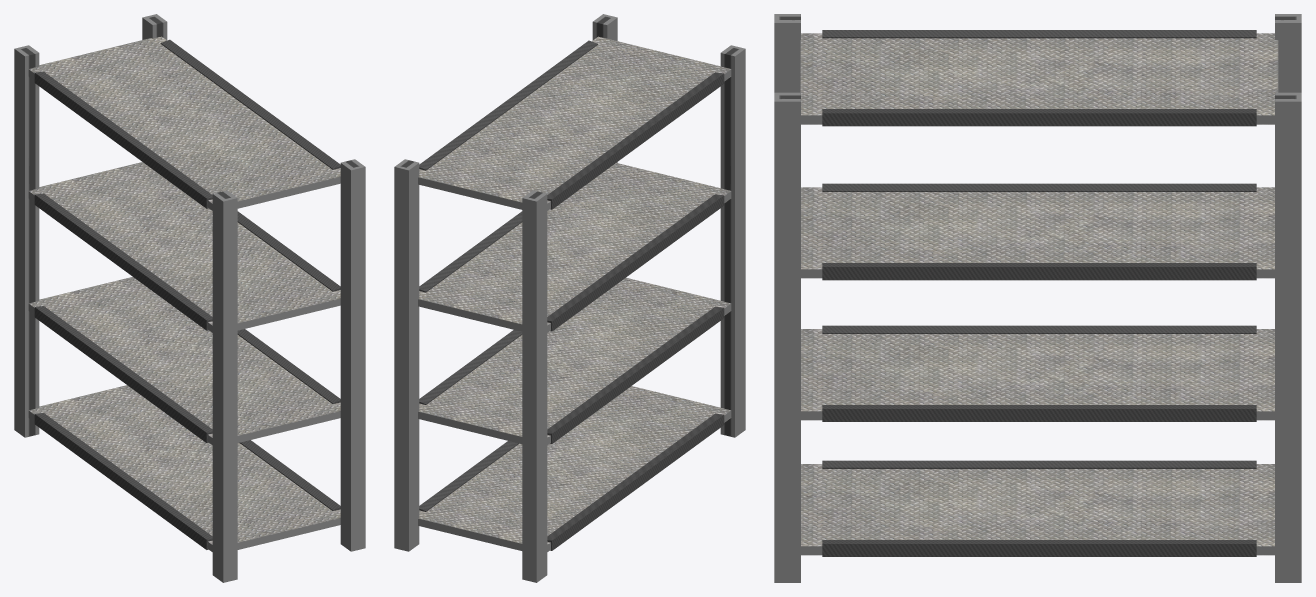
Rendered from Shelf.fbx.
The picture shows the model from 3 angles, left to right: view 1: azimuth 30°, elevation 25°; view 2: azimuth 150°, elevation 25°; view 3: azimuth 270°, elevation 25°; orthographic projection. The views are drawn at different scales.
Visible parts, largest first — view 1: Plate_4, Plate_3, Plate_2, Plate_1, ADDPlate_B (×4), shelf_LBLeg, shelf_LFLeg1, shelf_RBLeg, ADDPlate_F (×4), shelf_RFLeg; view 2: Plate_4, Plate_3, Plate_2, Plate_1, ADDPlate_B (×4), shelf_RBLeg, shelf_RFLeg, shelf_LBLeg, ADDPlate_F (×4), shelf_LFLeg1; view 3: Plate_4, Plate_3, Plate_2, Plate_1, ADDPlate_F (×4), ADDPlate_B (×4), shelf_RFLeg, shelf_LFLeg1, shelf_LBLeg, shelf_RBLeg.
Boxes of the visible parts, box(x1,y1,x2,y2) form: Plate_4: box(28, 36, 340, 210); Plate_3: box(28, 162, 340, 332); Plate_2: box(28, 277, 340, 445); Plate_1: box(28, 385, 340, 551); ADDPlate_B (×4): box(34, 71, 212, 549); shelf_LBLeg: box(212, 190, 237, 582); shelf_LFLeg1: box(340, 159, 365, 551); shelf_RBLeg: box(14, 45, 39, 437); ADDPlate_F (×4): box(160, 39, 340, 510); shelf_RFLeg: box(142, 14, 167, 40); Plate_4: box(418, 36, 731, 210); Plate_3: box(418, 163, 731, 332); Plate_2: box(418, 277, 731, 445); Plate_1: box(418, 386, 731, 551); ADDPlate_B (×4): box(547, 72, 724, 550); shelf_RBLeg: box(522, 190, 547, 582); shelf_RFLeg: box(394, 159, 419, 551); shelf_LBLeg: box(720, 45, 745, 437); ADDPlate_F (×4): box(419, 40, 597, 511); shelf_LFLeg1: box(592, 14, 617, 162); Plate_4: box(800, 33, 1278, 124); Plate_3: box(801, 187, 1274, 278); Plate_2: box(801, 329, 1274, 420); Plate_1: box(801, 464, 1274, 555); ADDPlate_F (×4): box(822, 109, 1256, 556); ADDPlate_B (×4): box(822, 30, 1256, 468); shelf_RFLeg: box(1275, 92, 1301, 582); shelf_LFLeg1: box(774, 92, 800, 582); shelf_LBLeg: box(774, 14, 800, 92); shelf_RBLeg: box(1275, 14, 1301, 92).
Bounding box in the file's own units: 0.8436 × 2.16 × 2.14.
